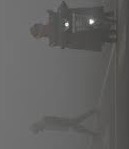person: (31, 6, 107, 47), (27, 111, 102, 137)
